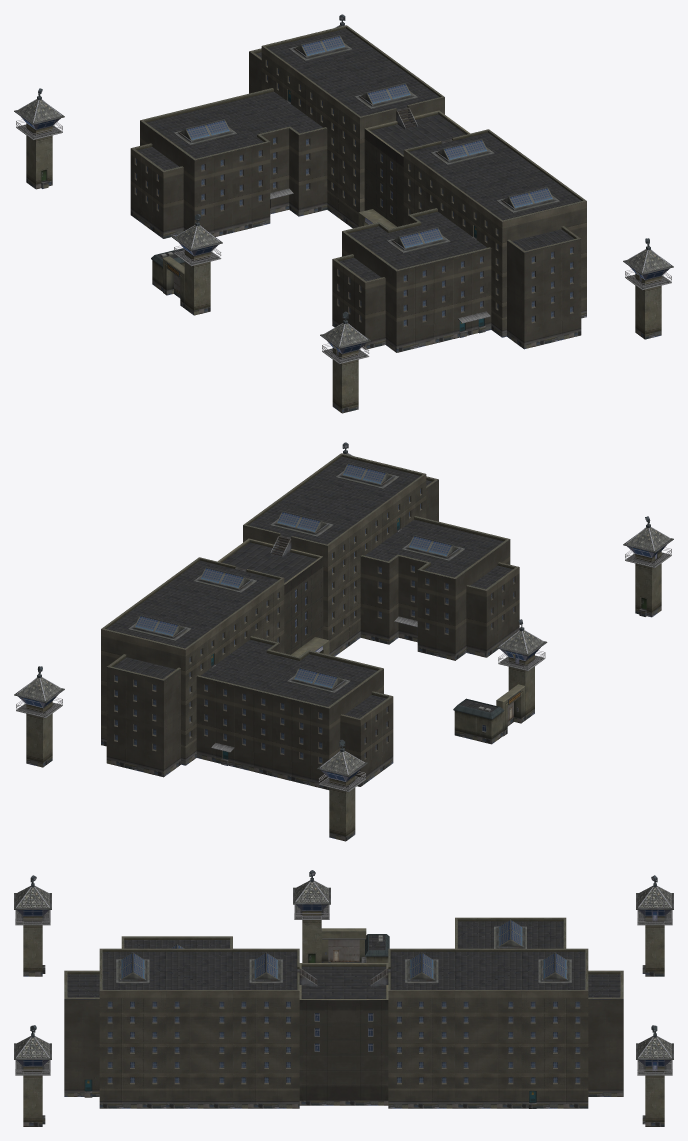
Rendered from Prison.obj.
3 views of the same model, one above another, from view 1: azimuth 30°, elevation 25°; view 2: azimuth 150°, elevation 25°; view 3: azimuth 270°, elevation 25° (orthographic).
Visible parts, largest first — view 1: Object_prison_d.jpg; view 2: Object_prison_d.jpg; view 3: Object_prison_d.jpg.
Part boxes in pixels (x1=…): Object_prison_d.jpg: x1=14, y1=14, x2=673, y2=413; Object_prison_d.jpg: x1=14, y1=442, x2=673, y2=841; Object_prison_d.jpg: x1=14, y1=870, x2=673, y2=1126.
Size of the model in its own units: 1.54 by 0.5251 by 2.5.
Materials: 1 (1 with a texture image).
